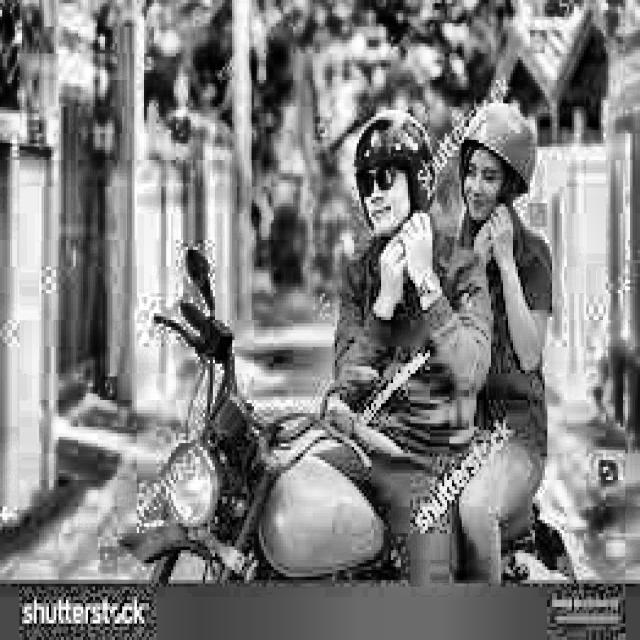Helmet: (349, 111, 439, 246), (456, 94, 534, 230)
